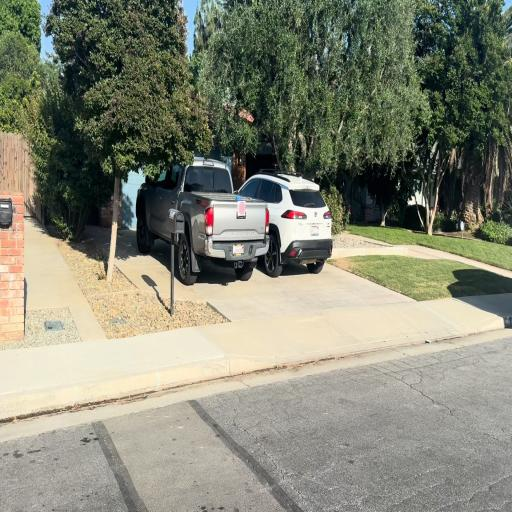bullseye: (238, 201, 246, 216)
